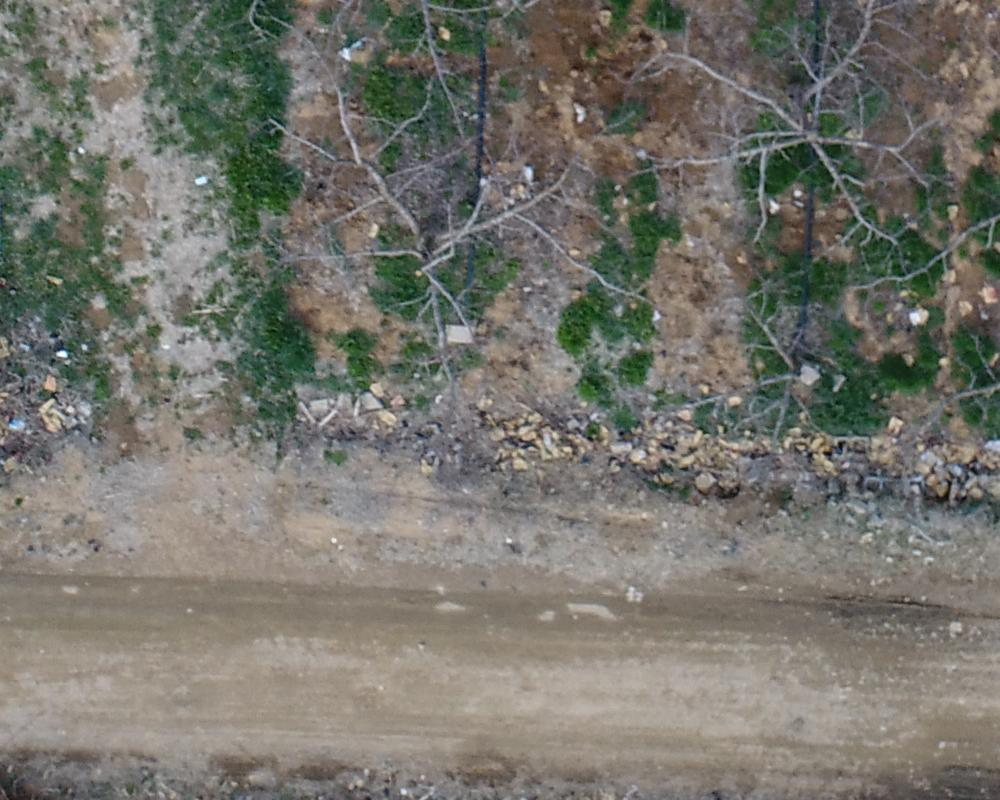apple: (277, 95, 647, 382), (622, 10, 941, 254)
